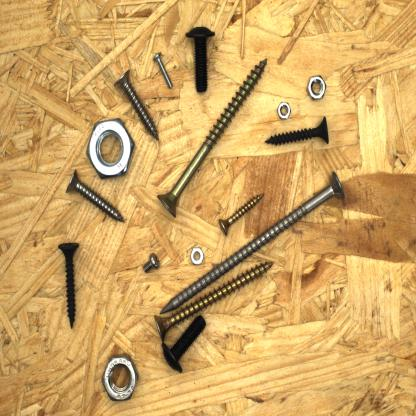screw: (156, 163, 352, 316), (154, 52, 272, 220), (150, 257, 278, 345), (109, 65, 164, 144), (65, 165, 128, 228), (158, 310, 216, 376), (181, 19, 219, 95), (54, 237, 84, 333), (216, 189, 274, 238), (262, 113, 333, 152), (149, 50, 178, 90), (138, 250, 165, 277)
